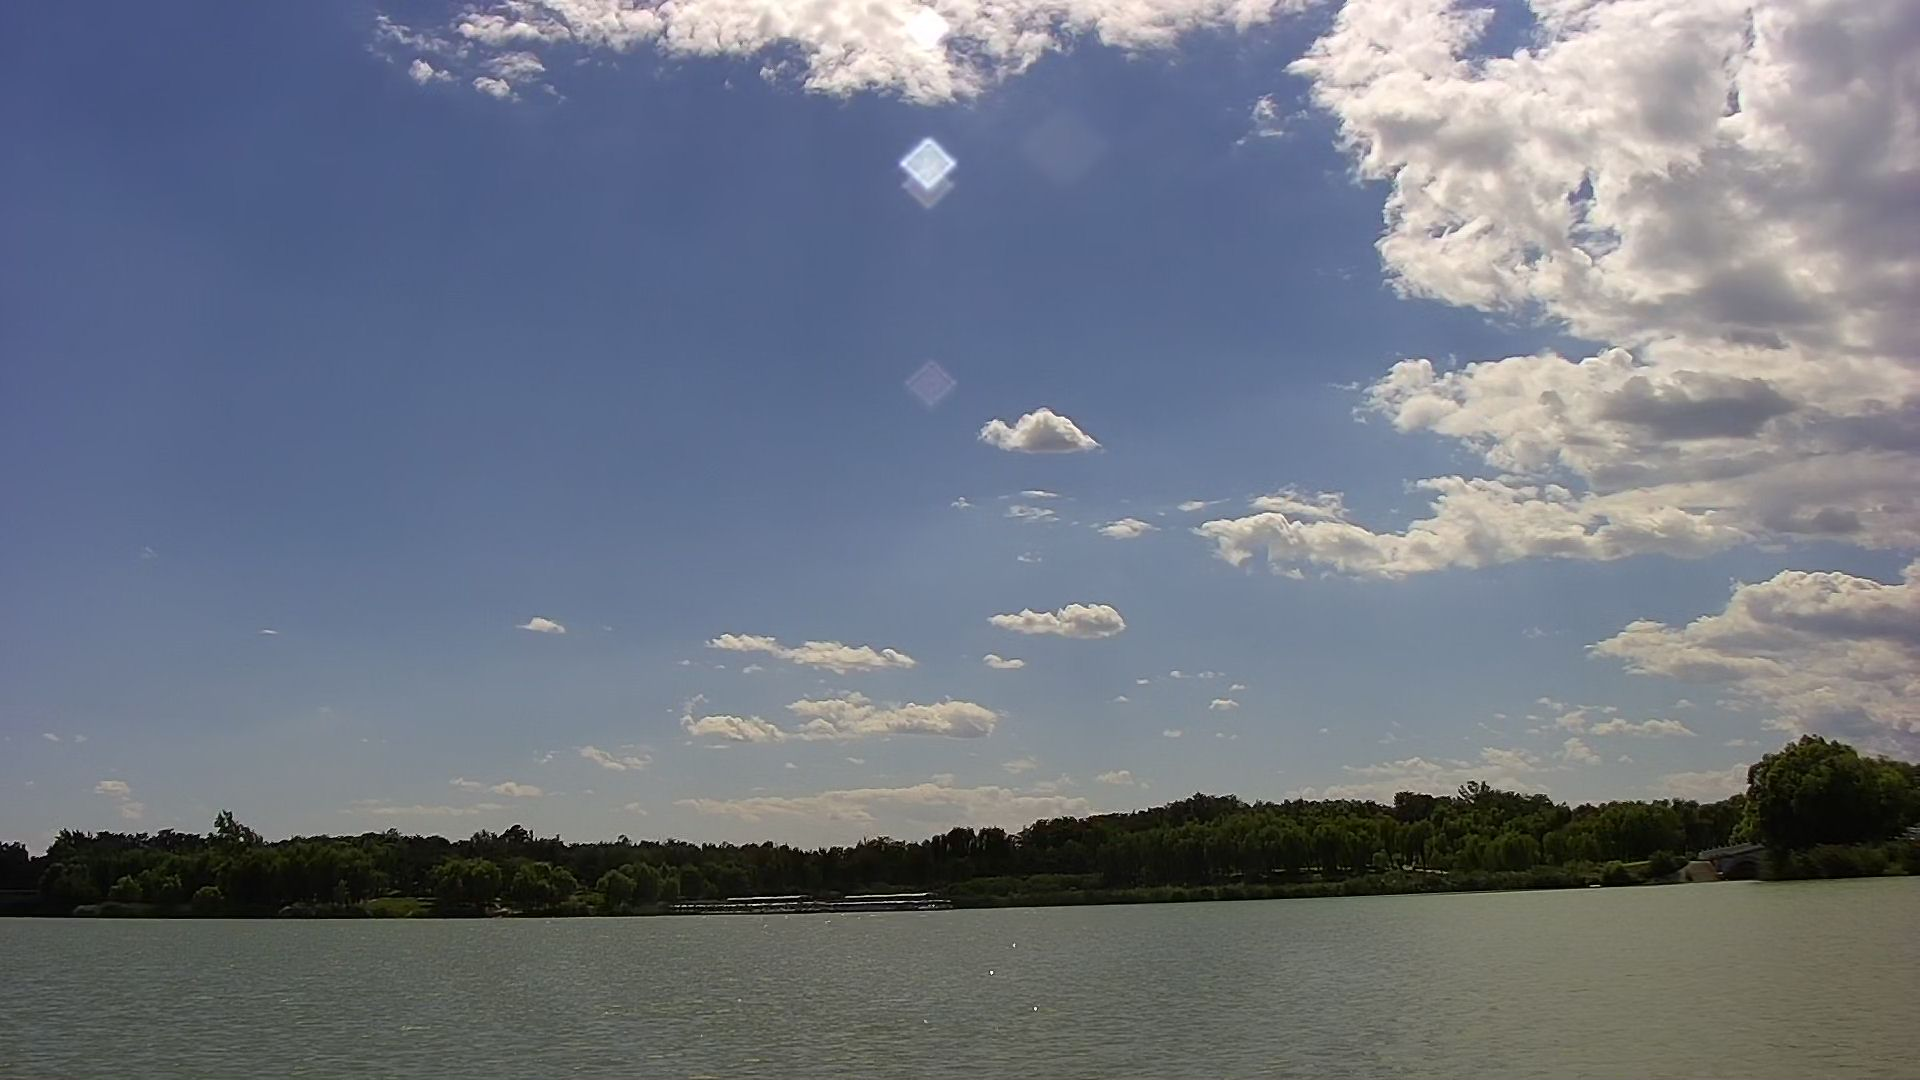harbor: (661, 886, 953, 914)
